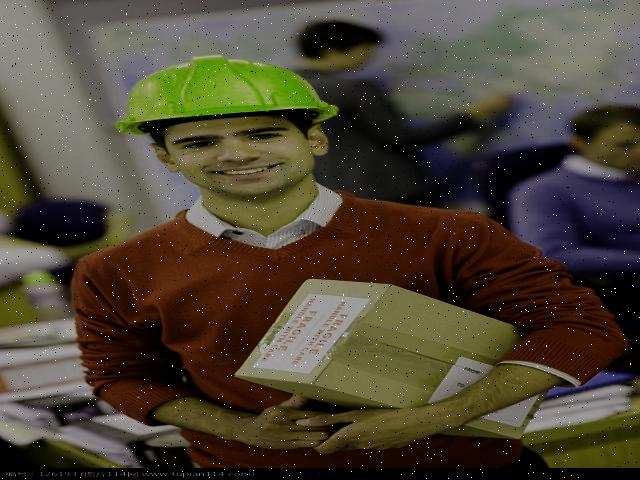Helmet: (108, 50, 348, 138)
